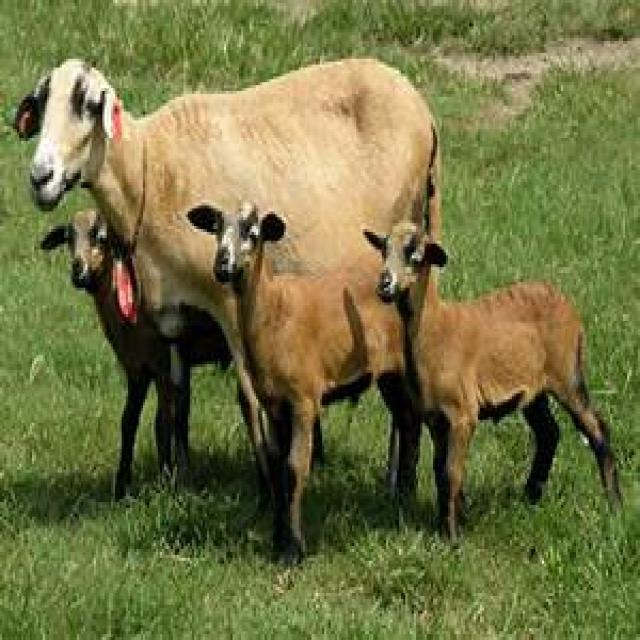animal: (14, 58, 442, 488), (364, 220, 613, 530), (193, 203, 421, 530), (40, 218, 188, 478)
